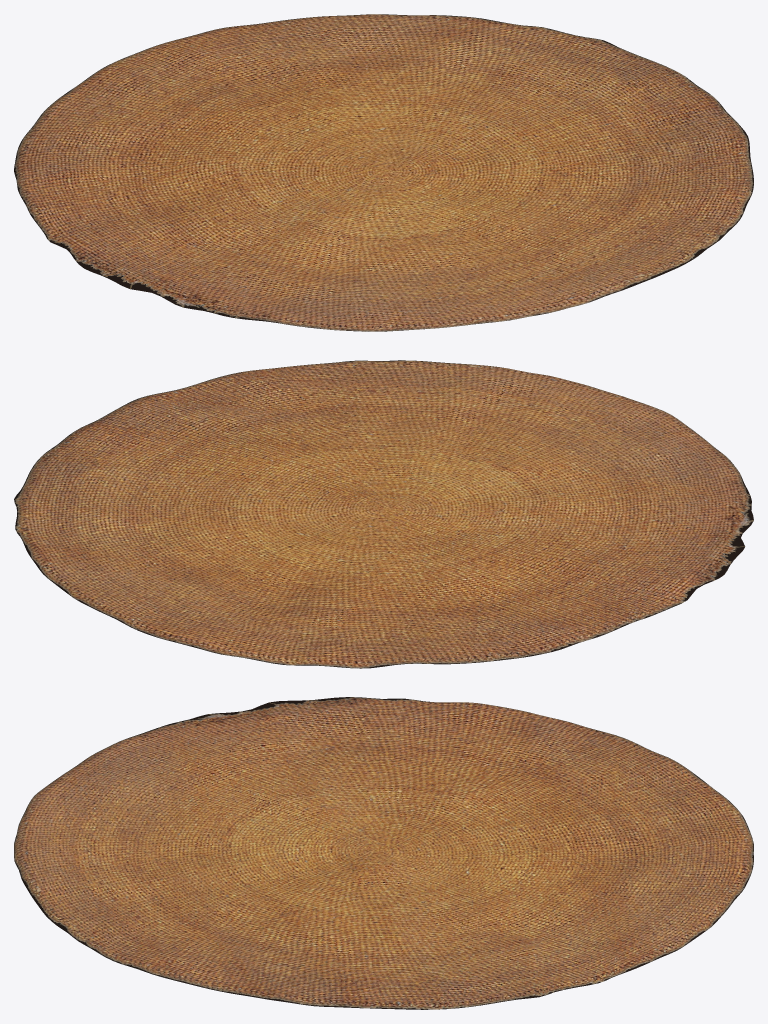
Rendered from unhyun__straw_mat_a.glb.
3 renders of one model, top to bottom at view 1: azimuth 30°, elevation 25°; view 2: azimuth 150°, elevation 25°; view 3: azimuth 270°, elevation 25°, orthographic. The views are drawn at different scales.
Visible parts, largest first — view 1: SM_StrawMat373_M_StrawMat373_0; view 2: SM_StrawMat373_M_StrawMat373_0; view 3: SM_StrawMat373_M_StrawMat373_0.
Part boxes in pixels (bbox=[...]): SM_StrawMat373_M_StrawMat373_0: bbox=[14, 14, 753, 331]; SM_StrawMat373_M_StrawMat373_0: bbox=[14, 360, 753, 668]; SM_StrawMat373_M_StrawMat373_0: bbox=[14, 697, 753, 1009].
Size of the model in its own units: 1.63 by 0.0223 by 1.63.
Materials: 1 (1 with a texture image).
